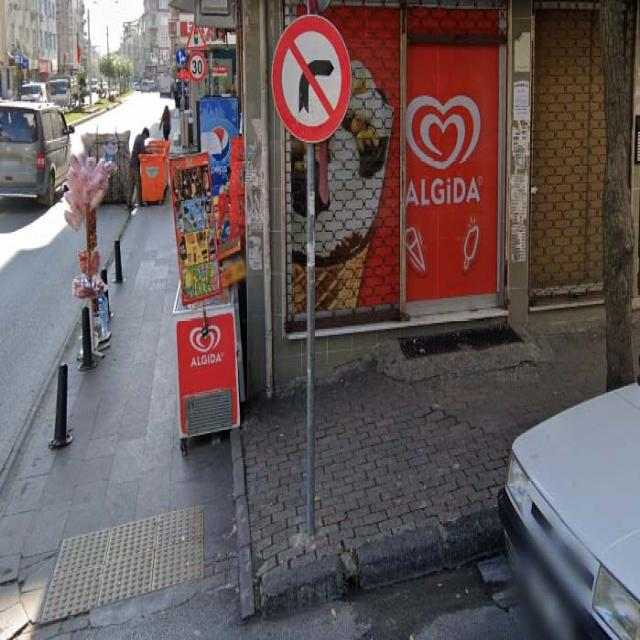30: (187, 50, 206, 81)
sagadonulmez: (272, 13, 352, 144)
